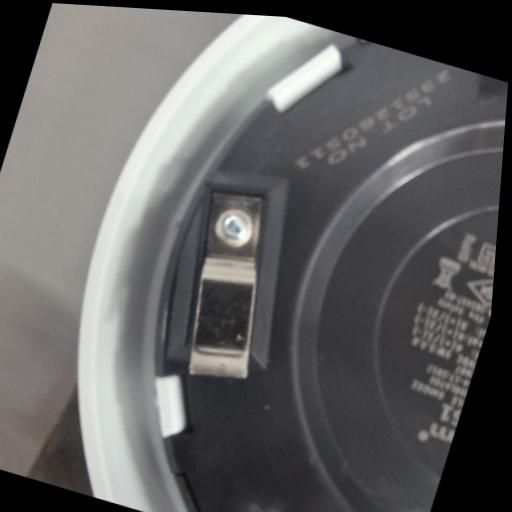yaysiz: (149, 175, 309, 410)
